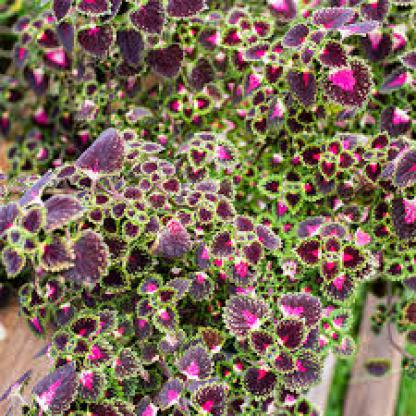Bunga Coleus: (24, 18, 377, 386)
